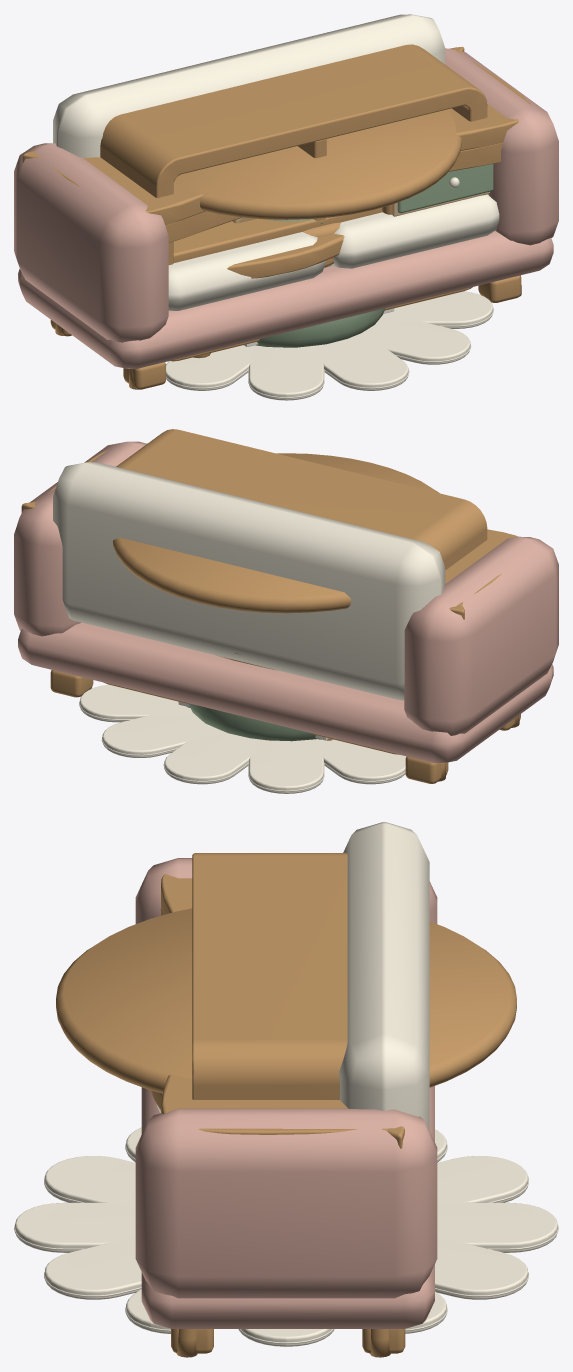
The model's file is decorations.glb.
3 renders of one model, top to bottom at view 1: azimuth 30°, elevation 25°; view 2: azimuth 150°, elevation 25°; view 3: azimuth 270°, elevation 25°, orthographic. The views are drawn at different scales.
Parts seen in each view (by area): view 1: decor_sofa / Cozy / soft pink, decor_cubby / Pale oak.001, decor_sofa / Cream painted wood, decor_bistro-table / Pale oak.001, decor_daisy-rug / Cream painted wood, decor_desk / Pale oak.001, decor_coffee-table / Pale oak.001, decor_cushion / Cozy / sage ceramic and knit, decor_desk / Cozy / sage ceramic and knit, decor_sofa / Pale oak.001, decor_daisy-rug / Cozy / cream piping; view 2: decor_sofa / Cozy / soft pink, decor_sofa / Cream painted wood, decor_cubby / Pale oak.001, decor_daisy-rug / Cream painted wood, decor_bistro-table / Pale oak.001, decor_cushion / Cozy / sage ceramic and knit, decor_sofa / Pale oak.001, decor_desk / Pale oak.001, decor_daisy-rug / Cozy / cream piping; view 3: decor_sofa / Cozy / soft pink, decor_cubby / Pale oak.001, decor_daisy-rug / Cream painted wood, decor_bistro-table / Pale oak.001, decor_sofa / Cream painted wood, decor_desk / Pale oak.001, decor_daisy-rug / Cozy / cream piping, decor_sofa / Pale oak.001.
Boxes of the visible parts, x1,y1,x2,y2 form: decor_sofa / Cozy / soft pink: (14, 48, 558, 368); decor_cubby / Pale oak.001: (100, 44, 487, 361); decor_sofa / Cream painted wood: (53, 14, 499, 310); decor_bistro-table / Pale oak.001: (173, 109, 461, 219); decor_daisy-rug / Cream painted wood: (166, 291, 493, 400); decor_desk / Pale oak.001: (22, 46, 531, 389); decor_coffee-table / Pale oak.001: (193, 233, 344, 358); decor_cushion / Cozy / sage ceramic and knit: (255, 308, 385, 347); decor_desk / Cozy / sage ceramic and knit: (397, 164, 493, 213); decor_sofa / Pale oak.001: (50, 275, 520, 389); decor_daisy-rug / Cozy / cream piping: (166, 309, 493, 398); decor_sofa / Cozy / soft pink: (14, 441, 558, 763); decor_sofa / Cream painted wood: (53, 462, 445, 700); decor_cubby / Pale oak.001: (103, 429, 487, 754); decor_daisy-rug / Cream painted wood: (79, 684, 405, 793); decor_bistro-table / Pale oak.001: (113, 453, 439, 613); decor_cushion / Cozy / sage ceramic and knit: (188, 703, 317, 741); decor_sofa / Pale oak.001: (50, 670, 520, 783); decor_desk / Pale oak.001: (21, 449, 519, 781); decor_daisy-rug / Cozy / cream piping: (79, 702, 405, 791); decor_sofa / Cozy / soft pink: (135, 858, 437, 1328); decor_cubby / Pale oak.001: (192, 853, 347, 1099); decor_daisy-rug / Cream painted wood: (15, 1127, 557, 1346); decor_bistro-table / Pale oak.001: (56, 908, 516, 1093); decor_sofa / Cream painted wood: (156, 822, 429, 1130); decor_desk / Pale oak.001: (160, 874, 404, 1357); decor_daisy-rug / Cozy / cream piping: (14, 1143, 558, 1343); decor_sofa / Pale oak.001: (171, 1329, 405, 1353).
Bounding box in the file's own units: 1.65 × 0.8 × 1.3.
